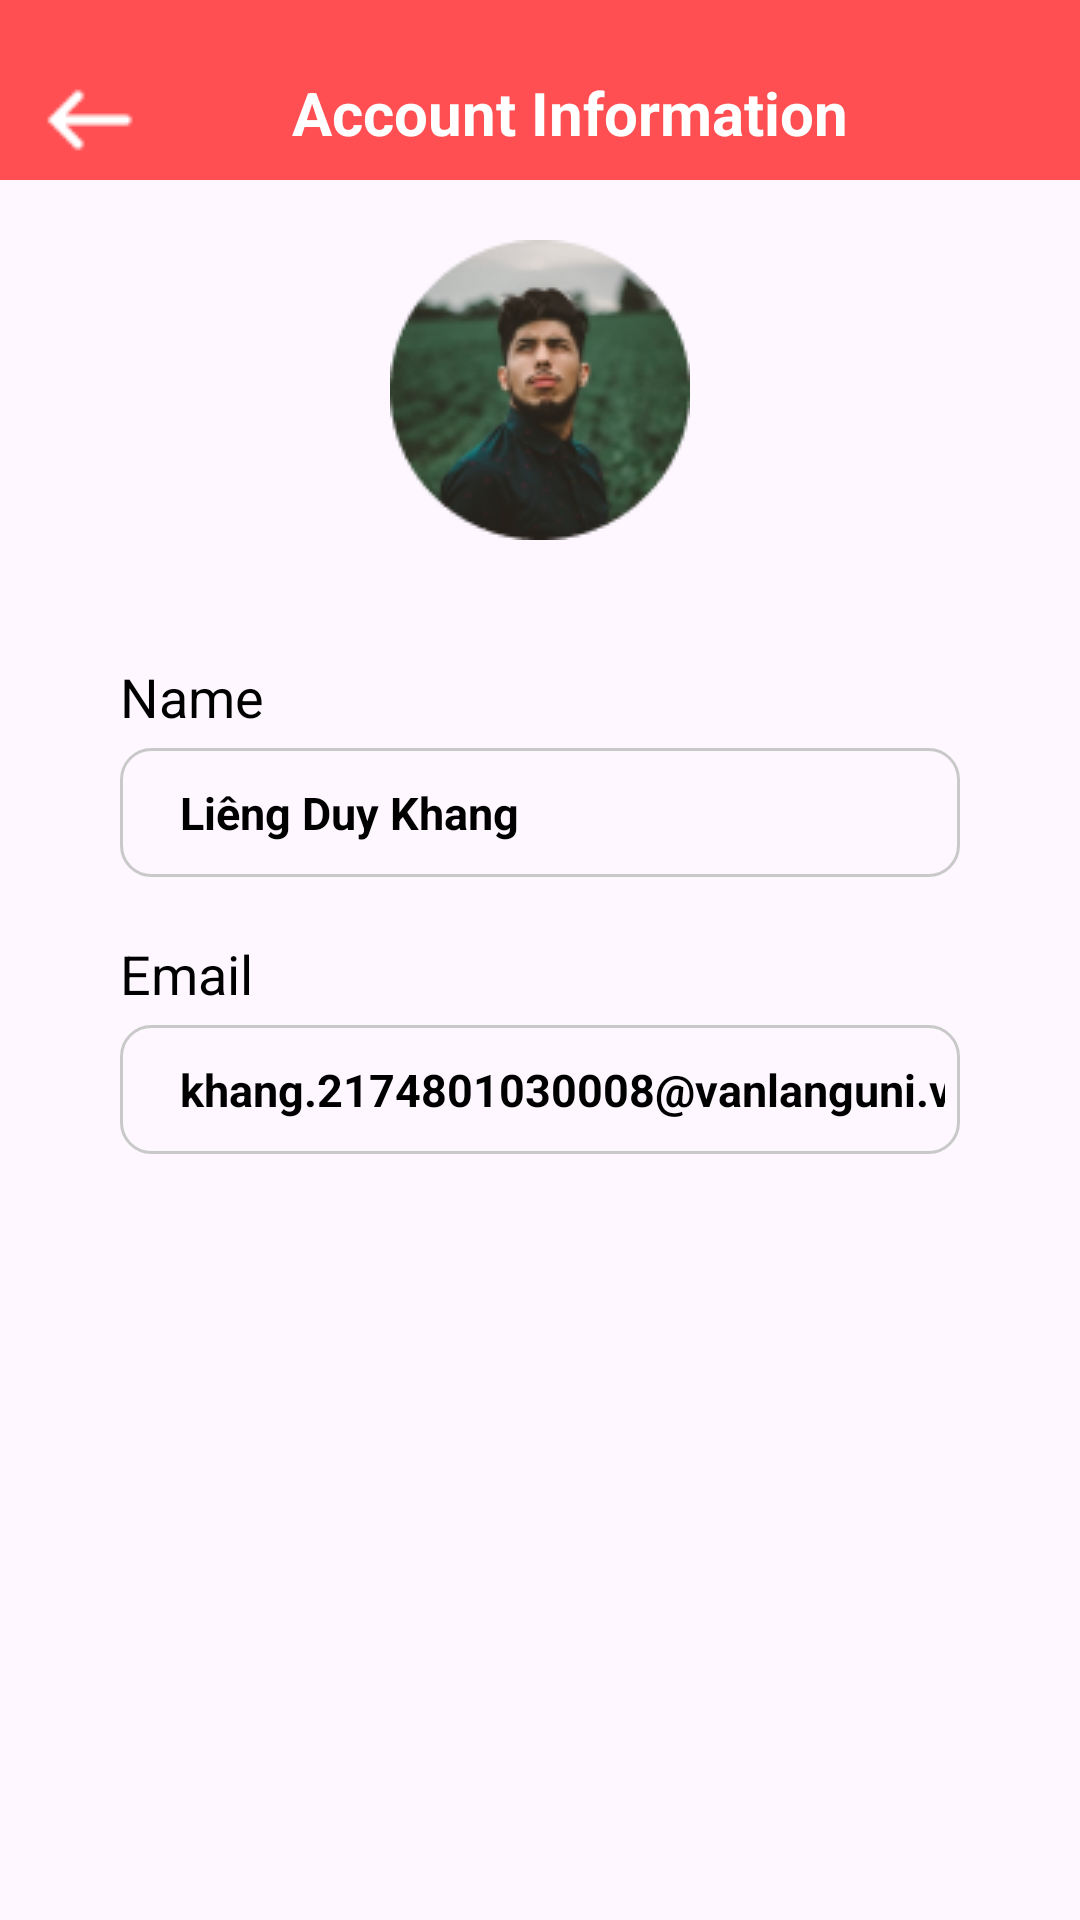

Where to tap for icons on this 1080*1920 app screen, as (x=x, y=y):
backward: (x=90, y=120)
